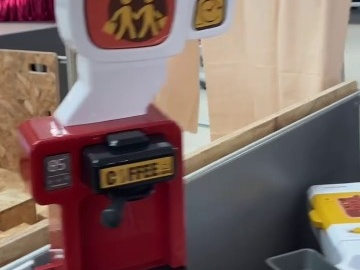curtain: (162, 0, 360, 119)
